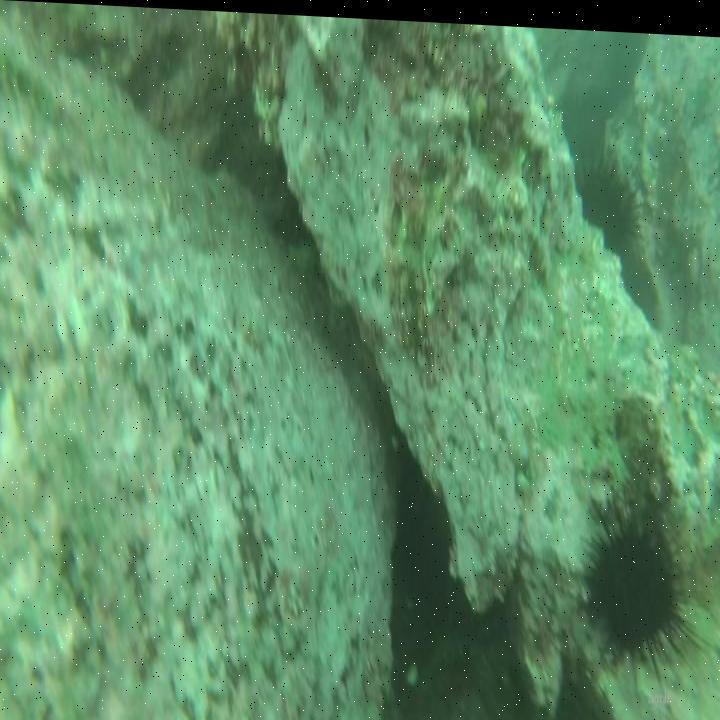echinus: (591, 524, 678, 650), (577, 153, 636, 244)
